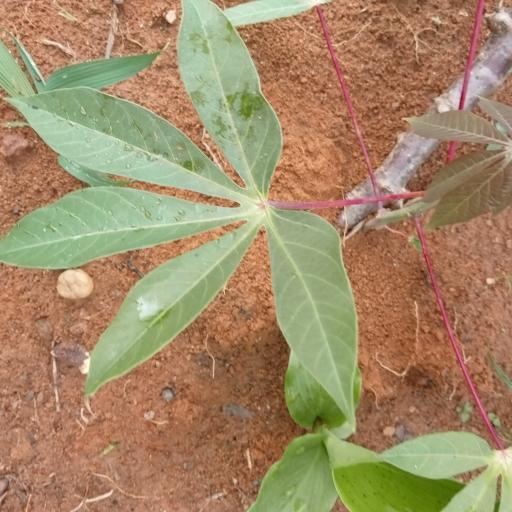Cassava_Mosaic: (13, 2, 351, 428)
